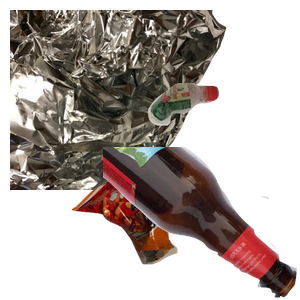glass: (103, 147, 300, 300)
metal: (10, 10, 229, 190)
plastic: (146, 80, 300, 198)
trash: (69, 153, 239, 300)
